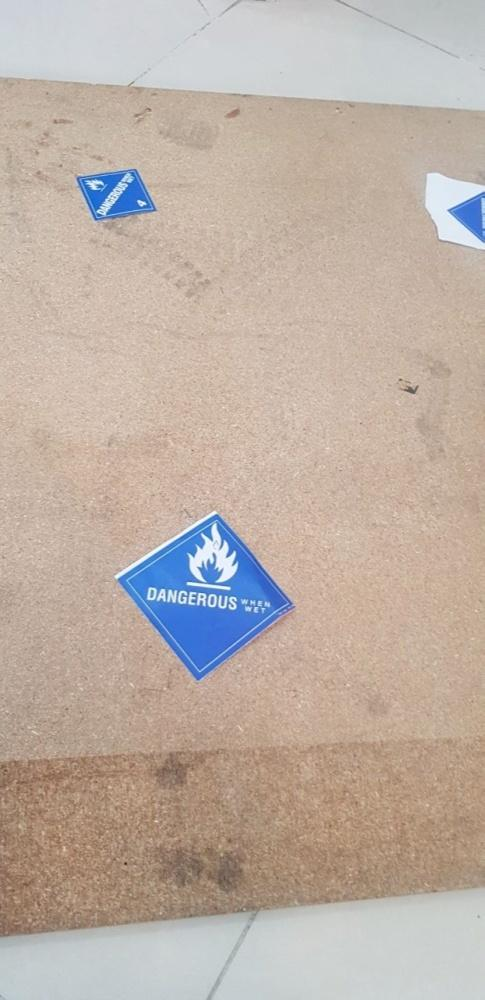dangerous-when-wet: (117, 513, 291, 680), (75, 168, 158, 221)
